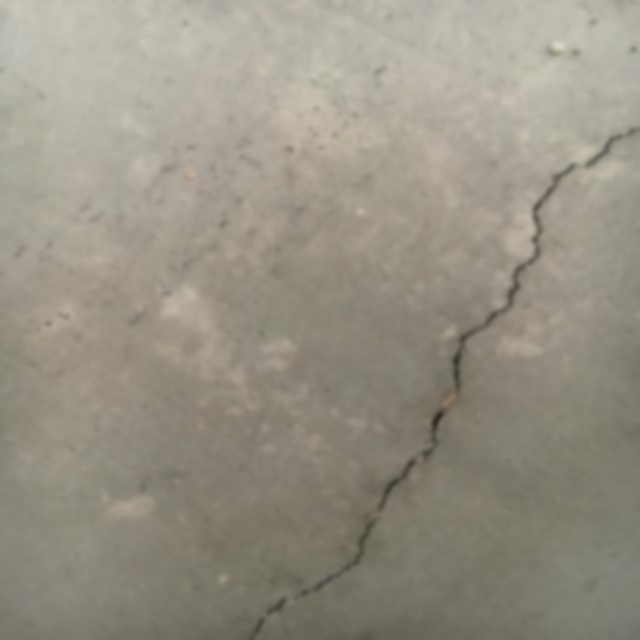SurfaceCrack: (188, 32, 639, 640)
